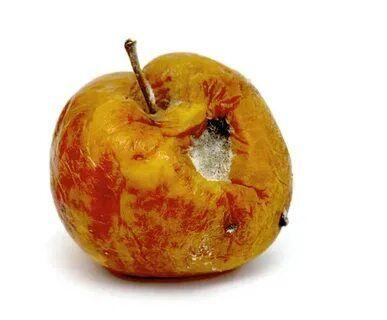Apple: (48, 52, 294, 281)
